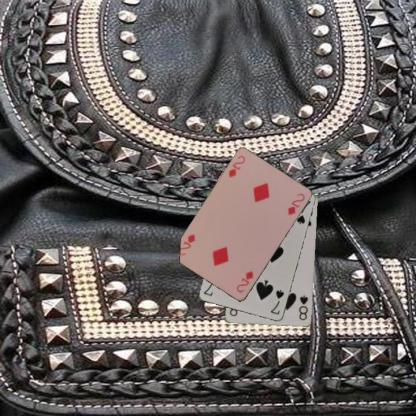2d: (226, 152, 247, 180), (234, 269, 255, 294)
7s: (268, 287, 286, 316)
8s: (296, 293, 310, 321)
